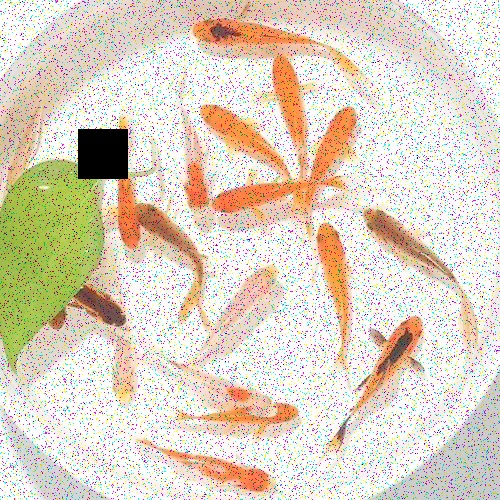fry: (346, 306, 433, 466), (363, 201, 477, 310), (140, 433, 279, 499), (208, 254, 285, 354), (311, 216, 364, 354), (188, 9, 334, 58), (195, 87, 279, 164), (170, 84, 213, 220), (138, 197, 202, 287), (185, 362, 277, 421), (255, 55, 313, 148), (211, 172, 337, 212), (104, 326, 152, 421), (5, 95, 52, 190), (110, 124, 143, 254), (198, 400, 305, 435), (316, 97, 359, 163), (79, 284, 132, 334), (46, 311, 67, 333)
